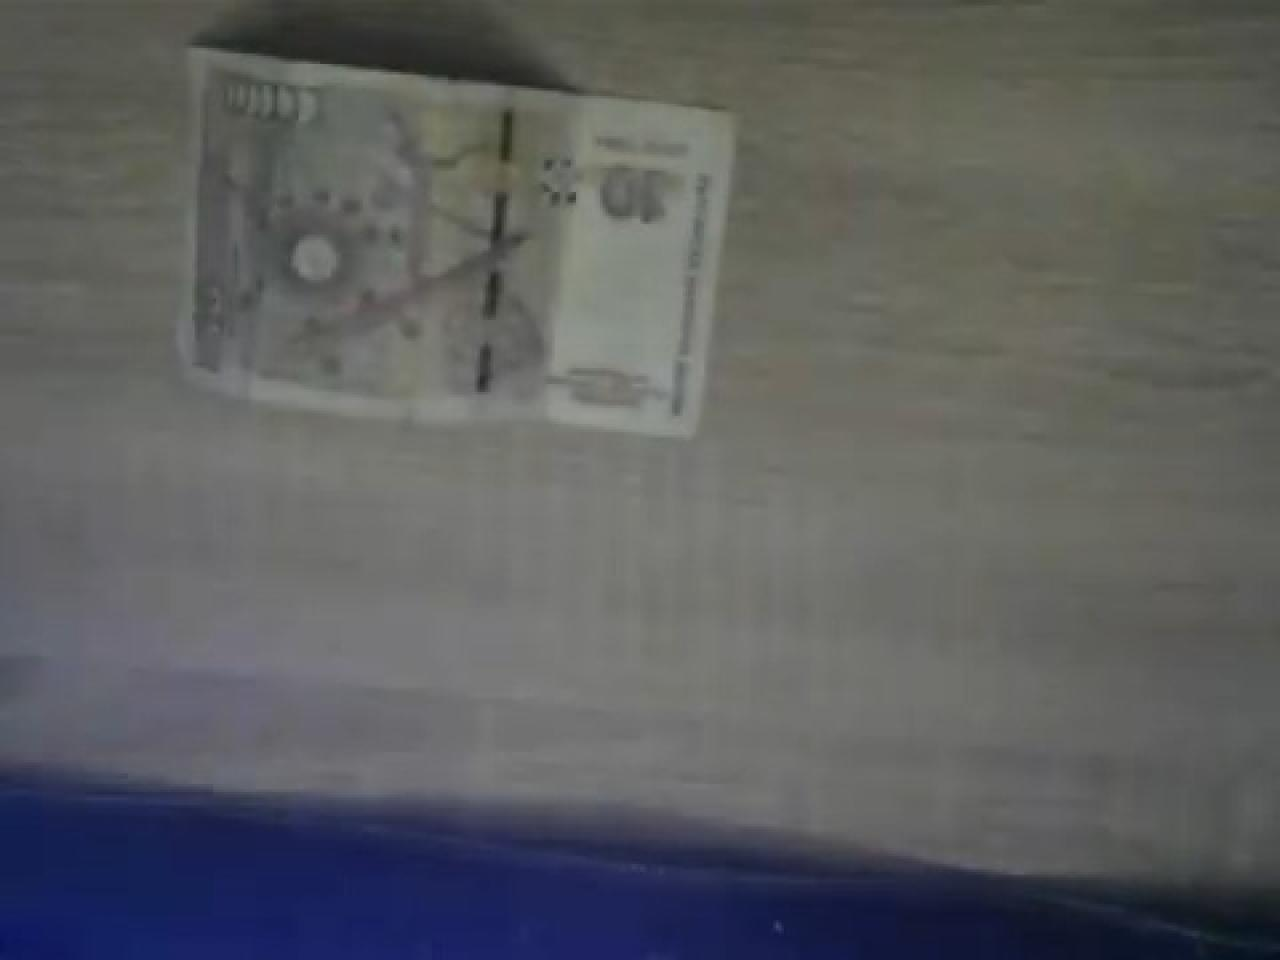10leva: (173, 40, 739, 438)
